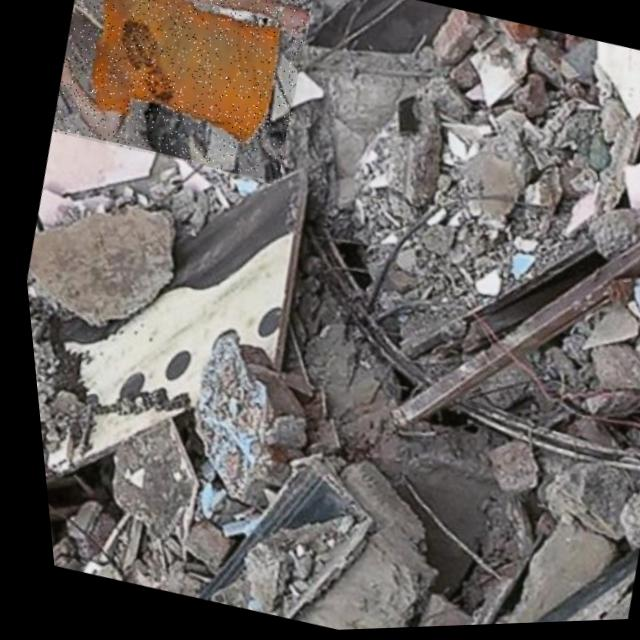Person in Rubble: (39, 0, 326, 190)
